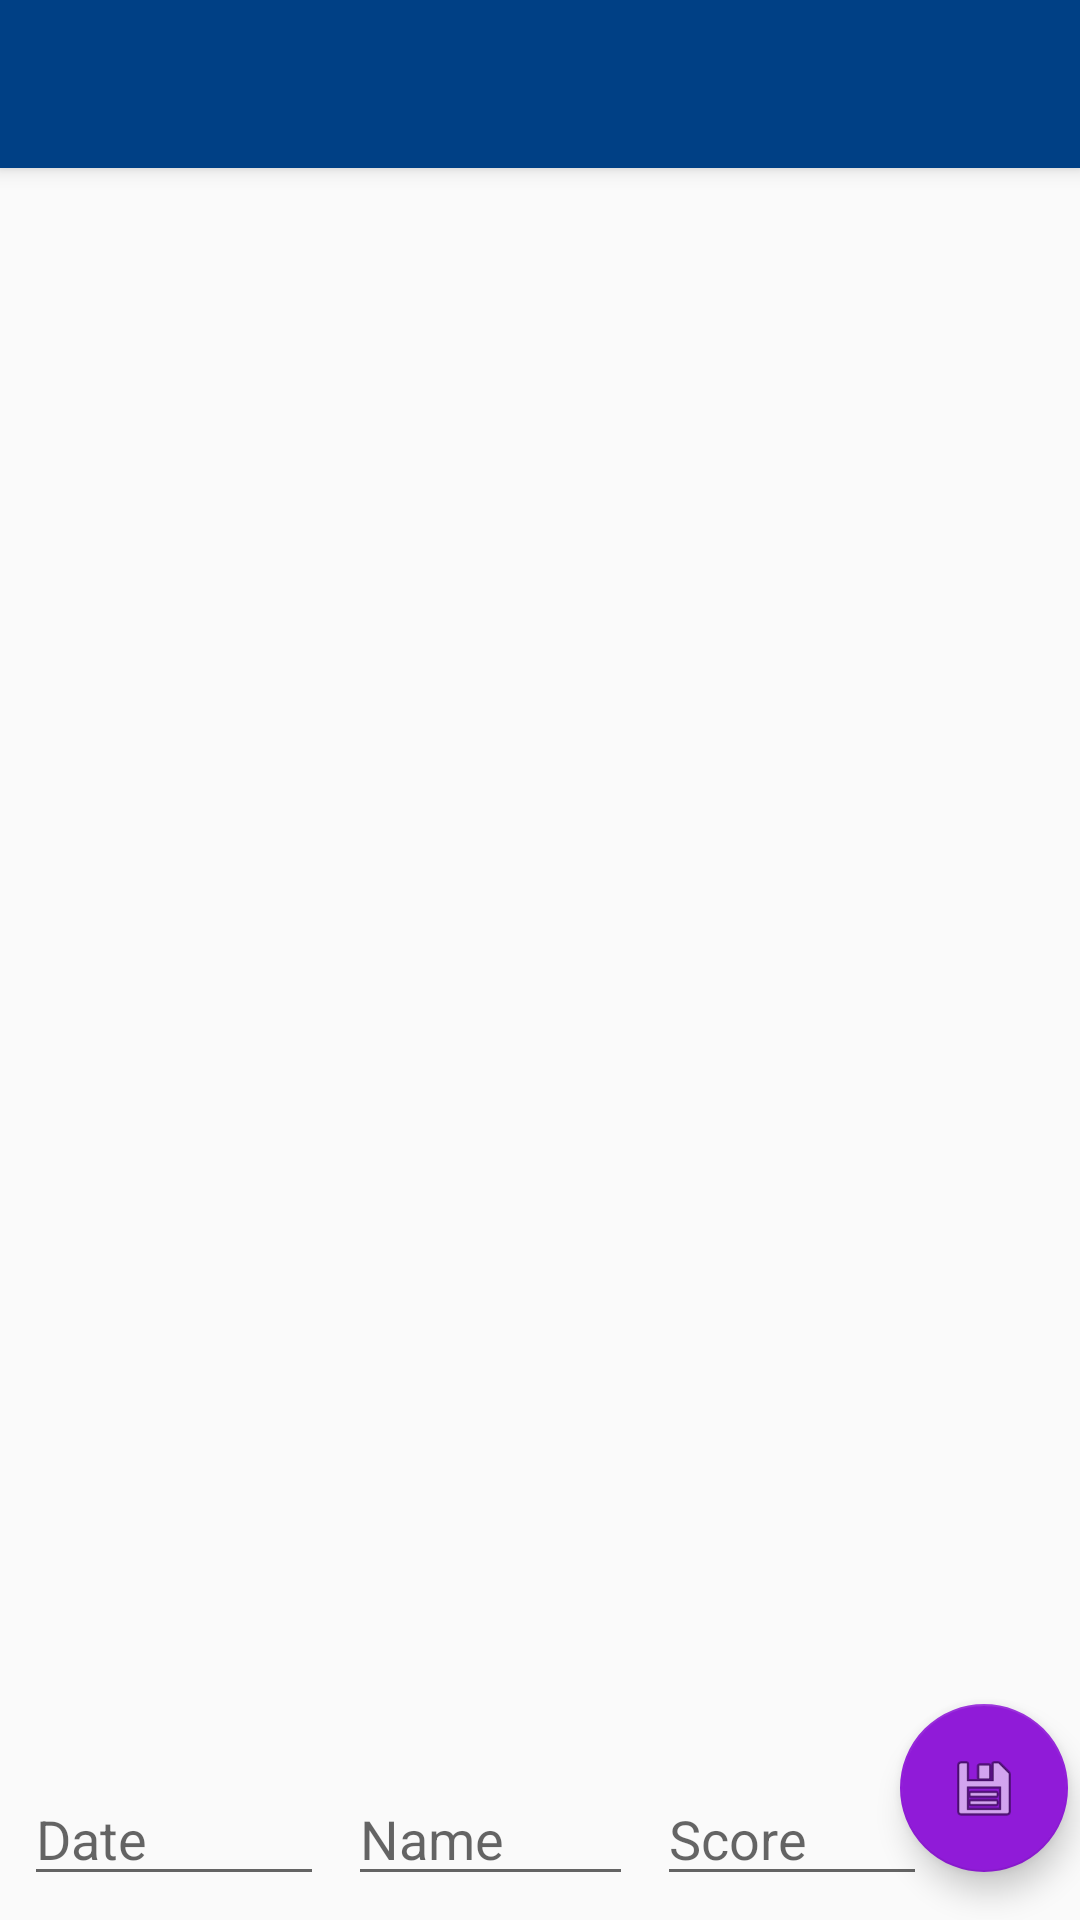

Named icons in this screenshot (1080w x 1920h) and their centers, (x,y):
save: (984,1788)
